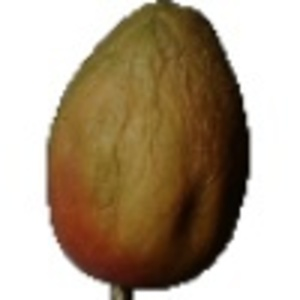mamão: (35, 2, 281, 293)
